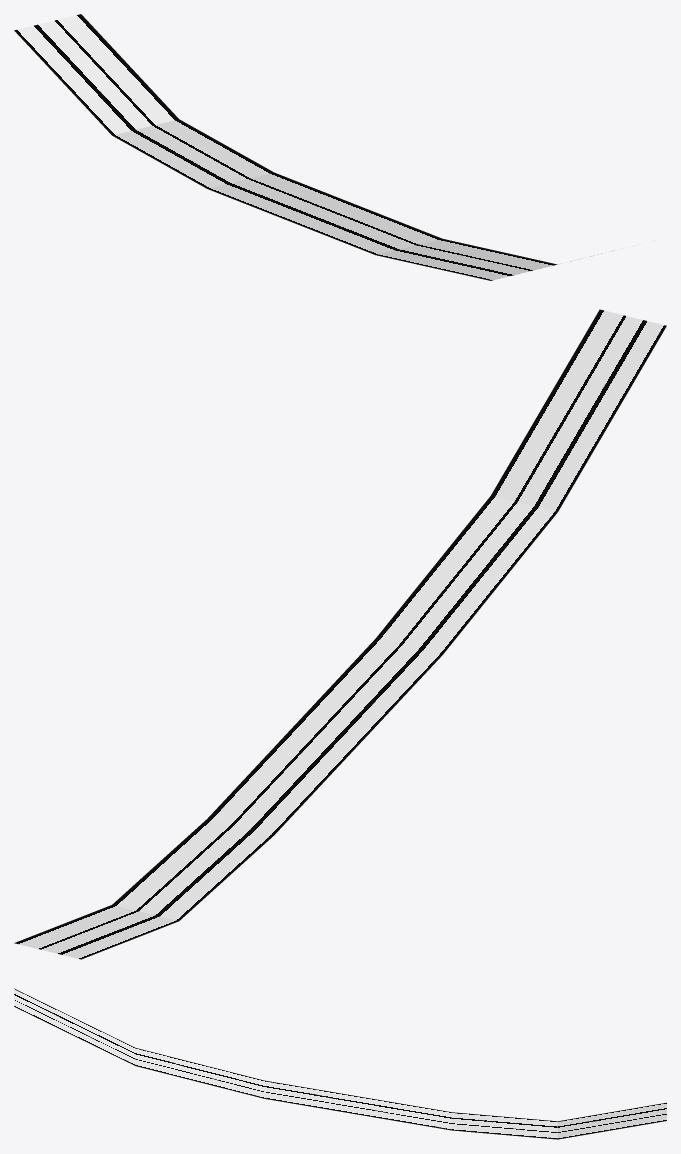
Rendered from Kabel_Lichtleitung_Up_2603.glb.
3 renders of one model, top to bottom at view 1: azimuth 30°, elevation 25°; view 2: azimuth 150°, elevation 25°; view 3: azimuth 270°, elevation 25°, orthographic. The views are drawn at different scales.
Parts seen in each view (by area): view 1: pPlaneShape128; view 2: pPlaneShape128; view 3: pPlaneShape128.
Part boxes in pixels (x1,y1,x2,y2): pPlaneShape128: [14, 14, 613, 280]; pPlaneShape128: [14, 309, 666, 959]; pPlaneShape128: [14, 988, 666, 1139].
Bounding box in the file's own units: 0.132 × 0.4472 × 1.99.
1 material, 1 textured.
